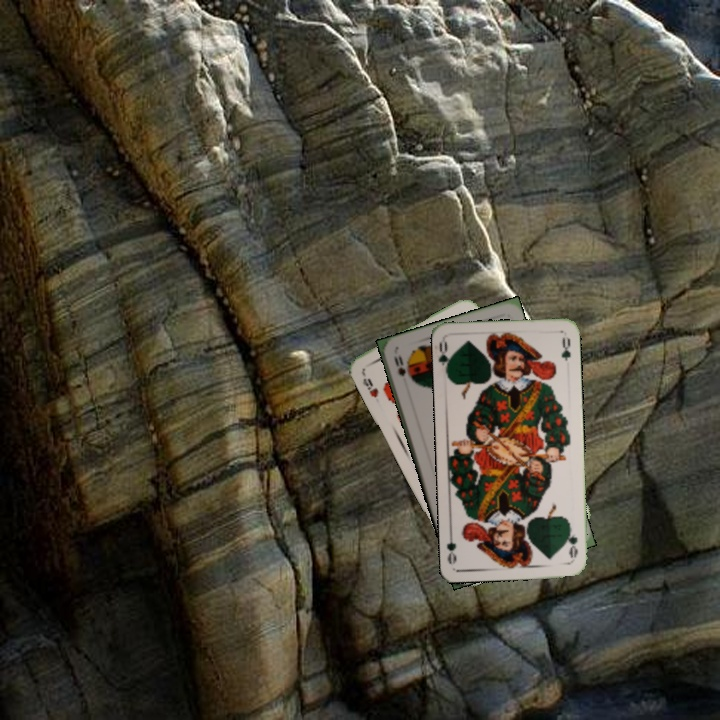GO: (435, 337, 455, 377), (563, 521, 580, 560)
H9: (358, 368, 381, 400)
SO: (390, 350, 408, 379)
